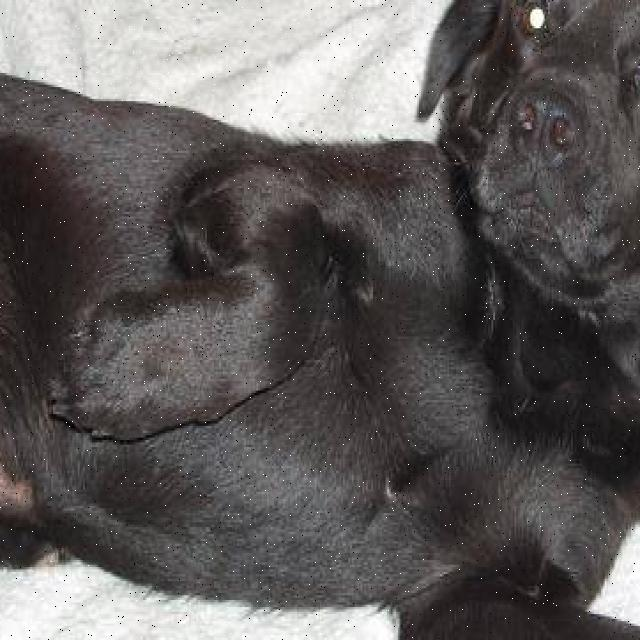Dog: (401, 0, 640, 313)
